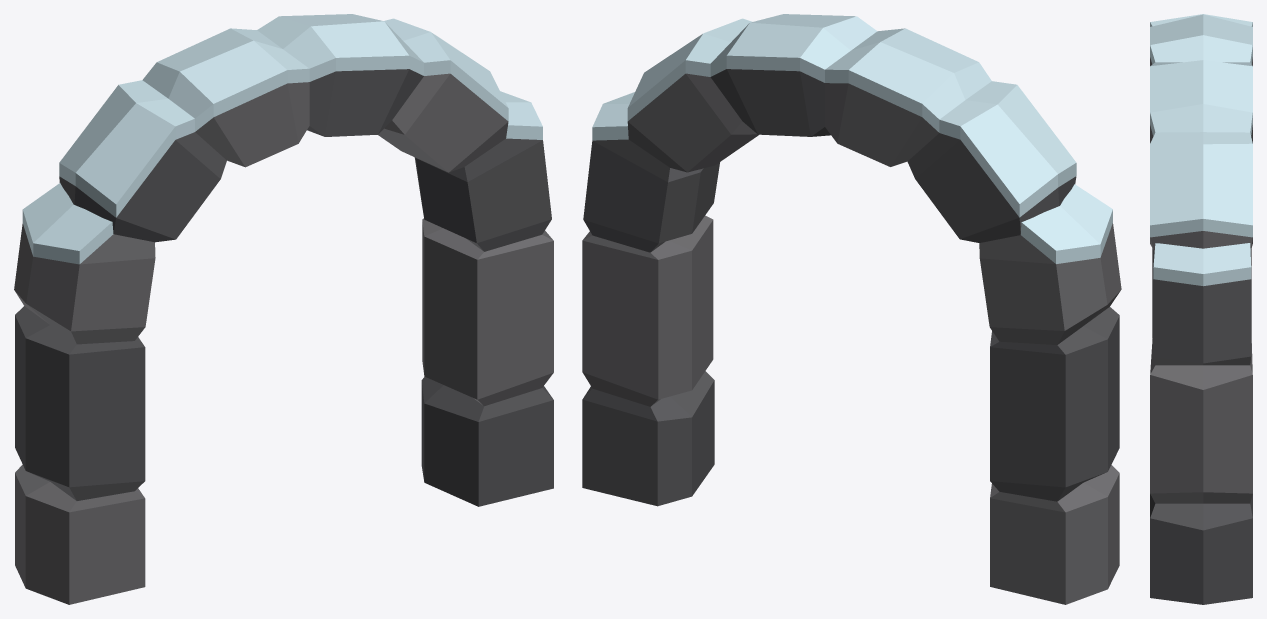
Rendered from SM_Bld_Castle_Door_01_Snow.gltf.
3 renders of one model, left to right at view 1: azimuth 30°, elevation 25°; view 2: azimuth 150°, elevation 25°; view 3: azimuth 270°, elevation 25°, orthographic. The views are drawn at different scales.
Visible parts, largest first — view 1: SM_Bld_Castle_Door_01_Snow; view 2: SM_Bld_Castle_Door_01_Snow; view 3: SM_Bld_Castle_Door_01_Snow.
Part boxes in pixels (left/top/right/bottom): SM_Bld_Castle_Door_01_Snow: left=14, top=14, right=553, bottom=604; SM_Bld_Castle_Door_01_Snow: left=582, top=14, right=1121, bottom=604; SM_Bld_Castle_Door_01_Snow: left=1150, top=14, right=1252, bottom=604.
Size of the model in its own units: 3.44 by 3.15 by 0.6597.
Materials: 1 (1 with a texture image).
